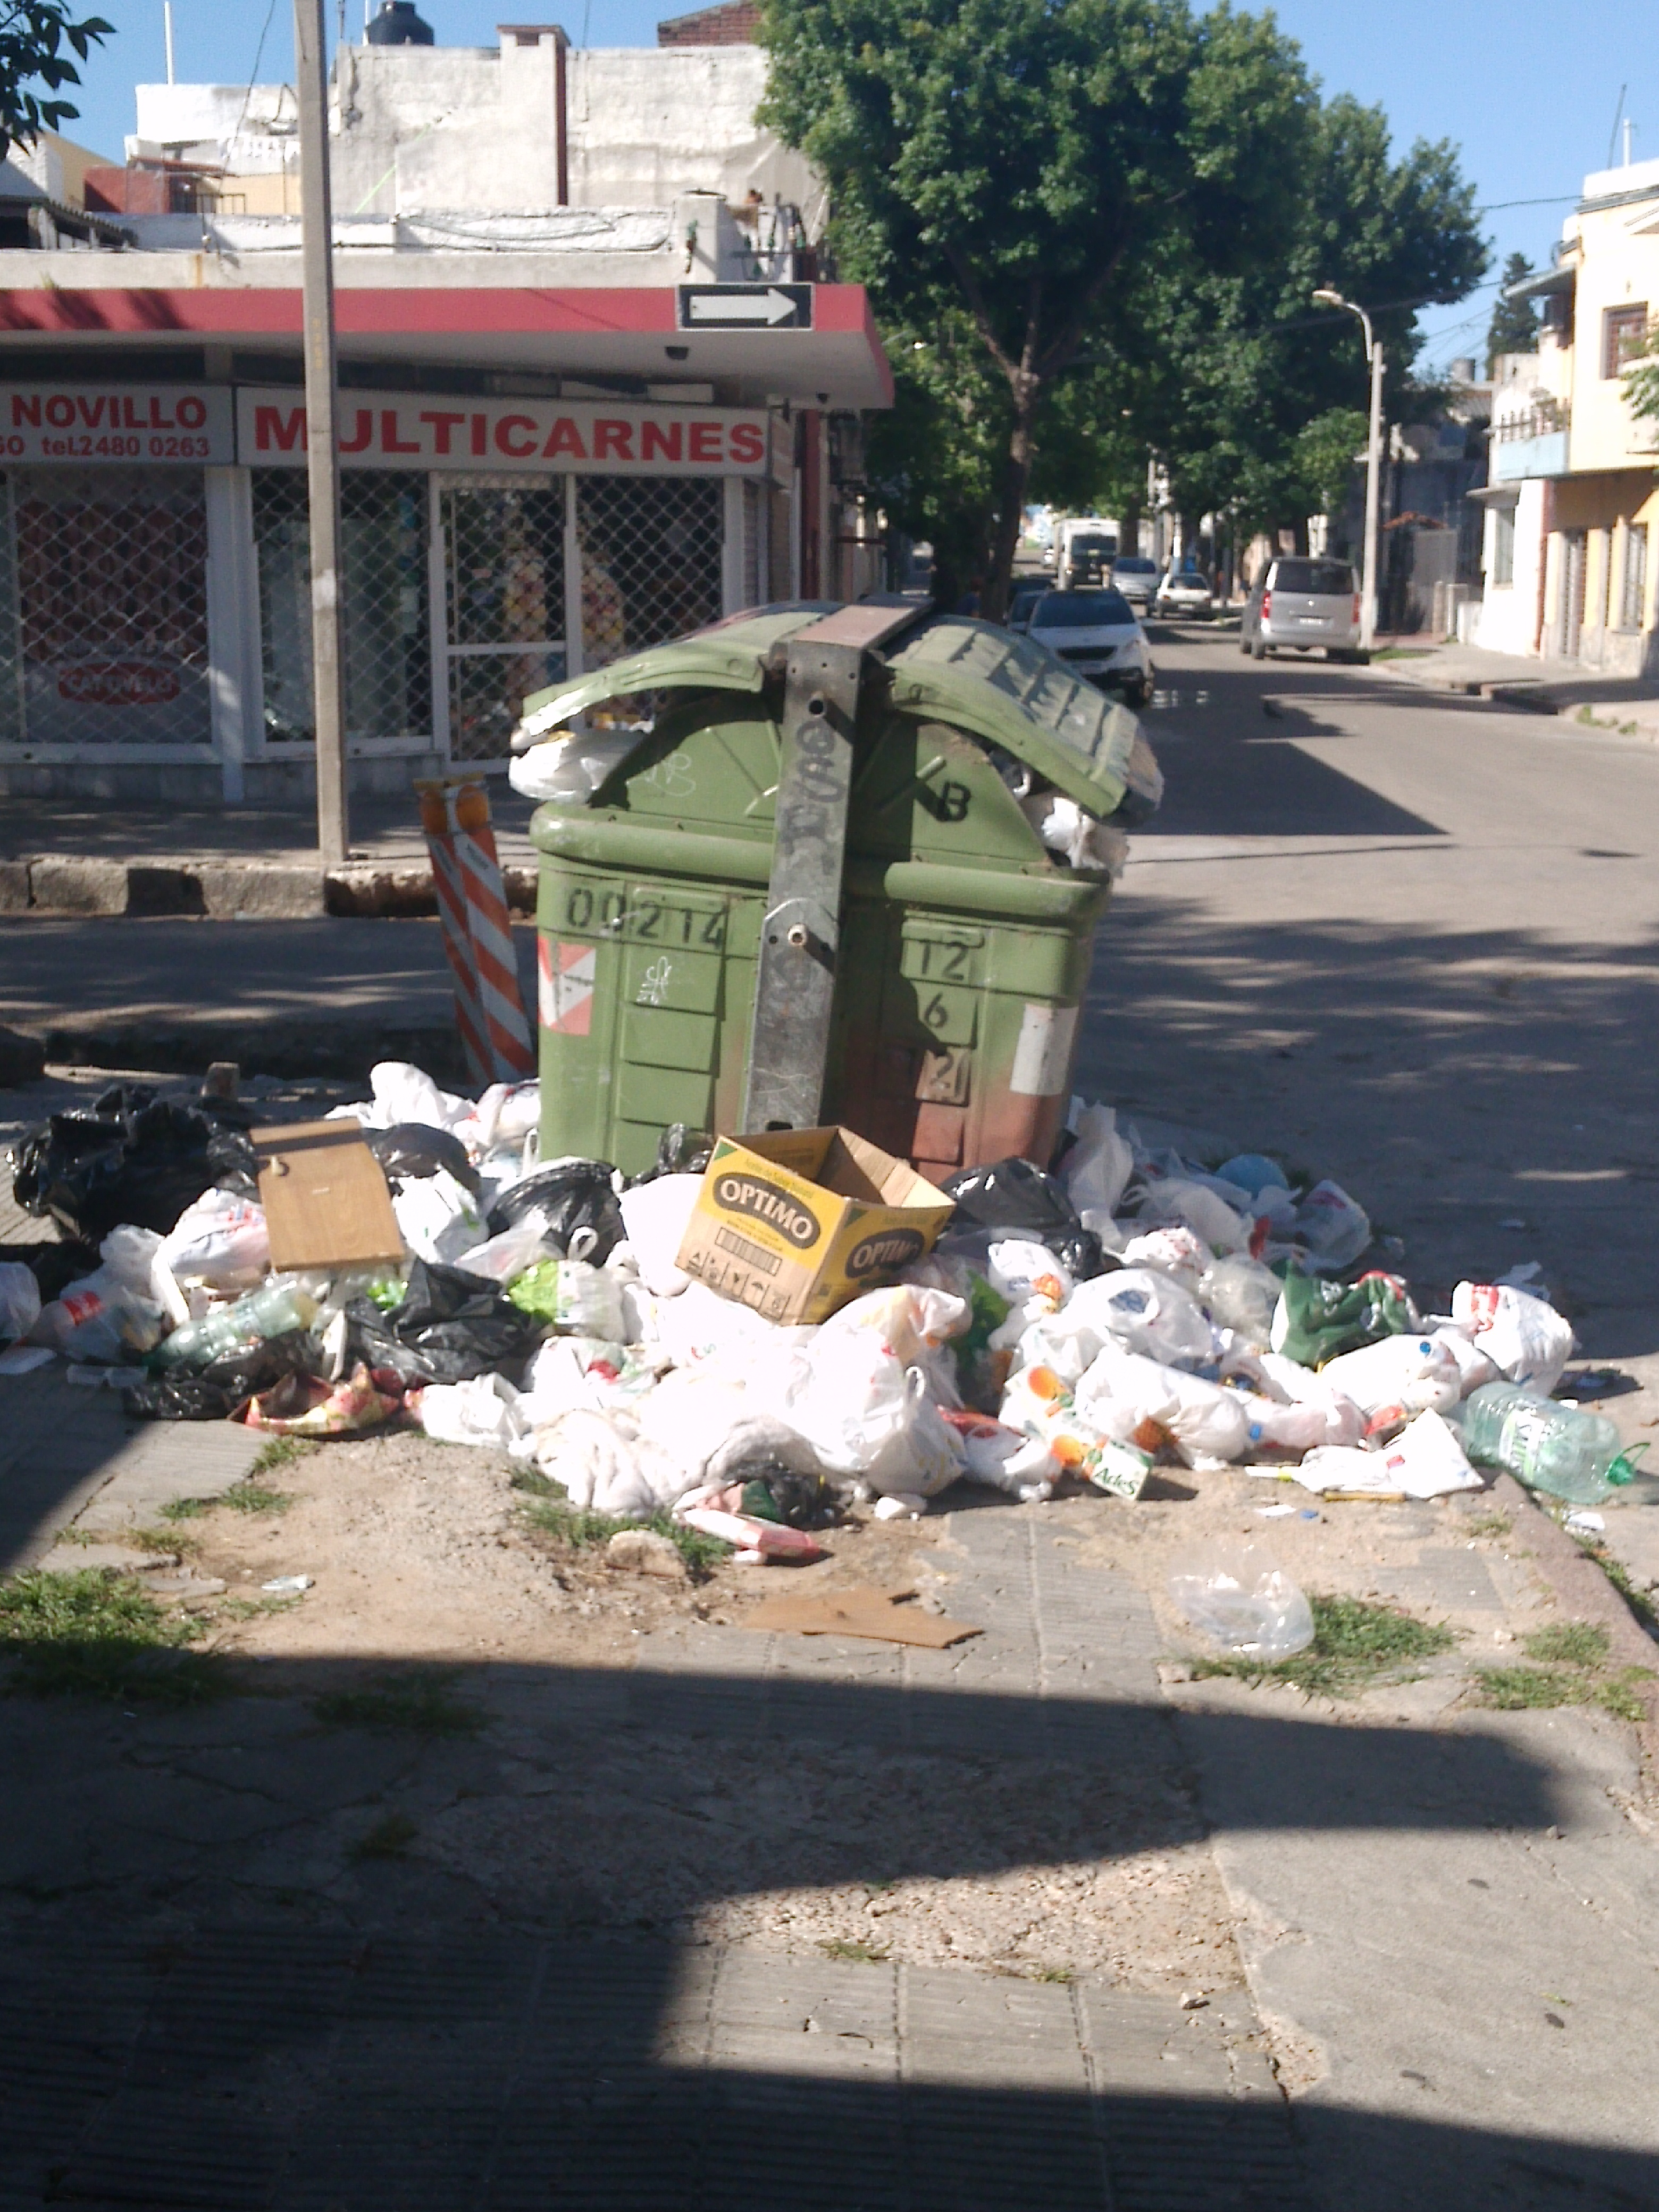container: (519, 578, 1175, 1254)
